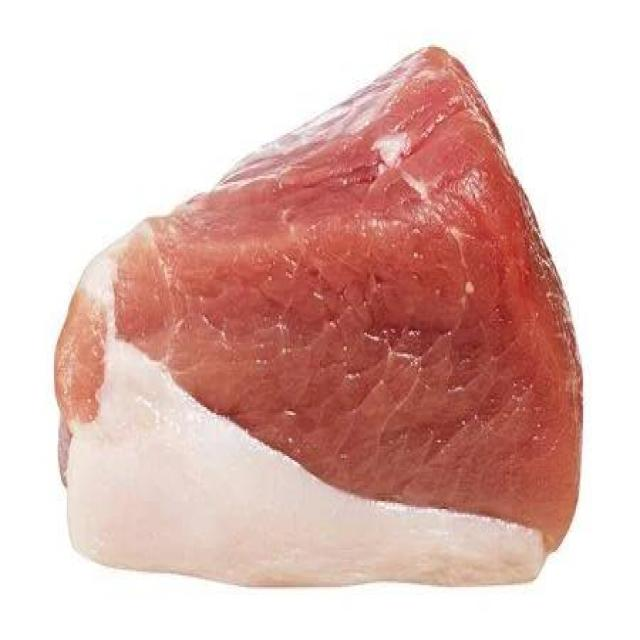Pork: (61, 81, 578, 570)
